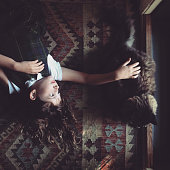deitado: (0, 7, 156, 128)
